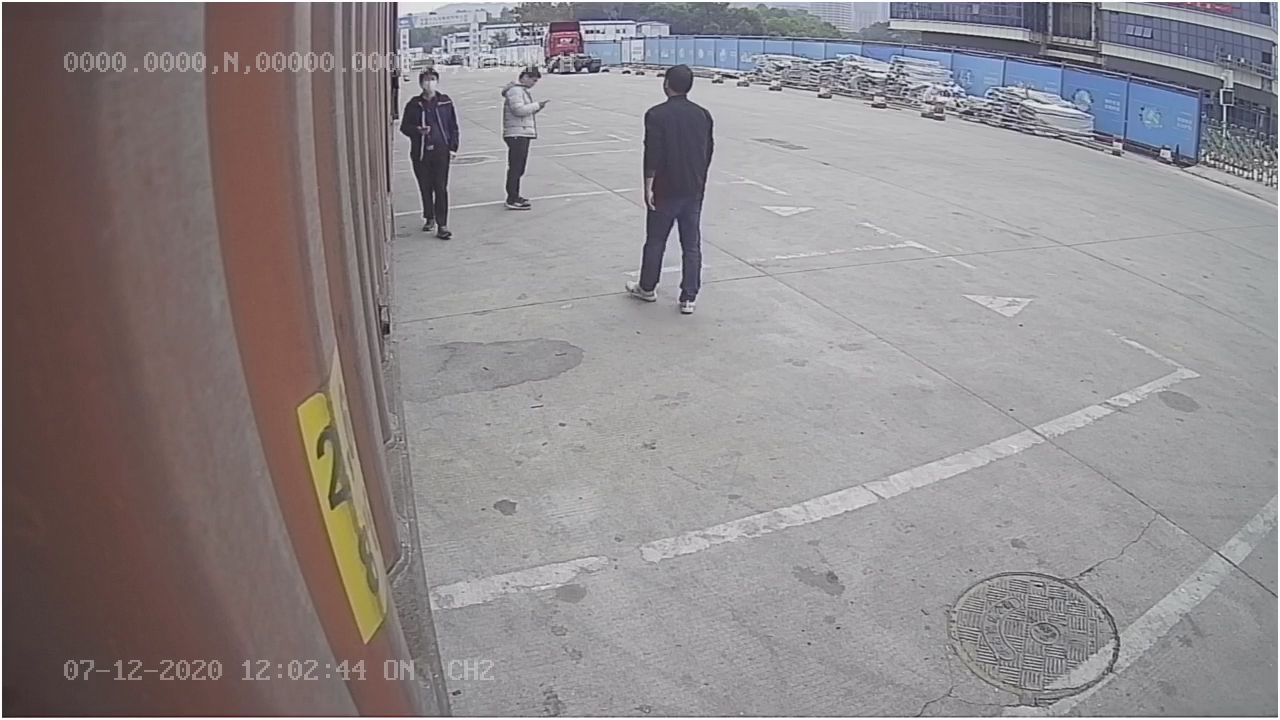person: (617, 54, 715, 317)
